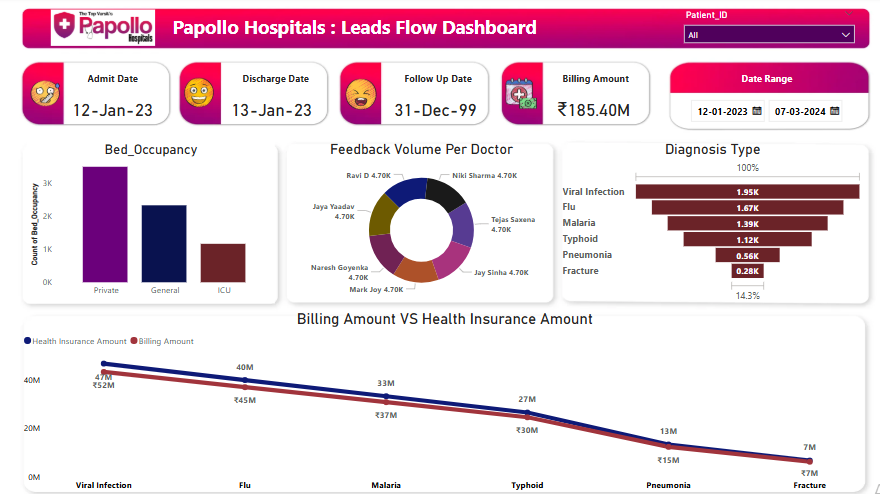

What the dashboard file says about the page in this screenshot:
{"tool":"powerbi","page":{"name":"Page 1","canvas":[1280,720],"ordinal":0},"visuals":[{"type":"image","box":[41.8,11.5,216,61.9],"z":0},{"type":"textbox","box":[244.8,17.3,557.3,51.8],"z":1000},{"type":"slicer","fields":{"Values":["Sheet1.Patient_ID"]},"box":[970.6,11.5,263.5,61.9],"z":3000},{"type":"card","fields":{"Values":["Sheet1.Admit_Date"]},"box":[83.5,133.9,161.3,50.4],"z":4000},{"type":"textbox","box":[122.4,100.8,122.4,44.6],"z":5000},{"type":"textbox","box":[344.2,100.8,122.4,44.6],"z":6000},{"type":"card","fields":{"Values":["Sheet1.Discharge_Date"]},"box":[313.9,133.9,152.6,50.4],"z":7000},{"type":"card","fields":{"Values":["Sheet1.Followup Date"]},"box":[548.6,133.9,152.6,50.4],"z":8000},{"type":"textbox","box":[576,100.8,125.3,44.6],"z":9000},{"type":"textbox","box":[802.1,100.8,125.3,44.6],"z":10000},{"type":"card","fields":{"Values":["Sheet1.Billing Amount"]},"box":[774.7,133.9,152.6,50.4],"z":11000},{"type":"slicer","fields":{"Values":["Sheet1.Admit_Date"]},"box":[977.8,135.4,249.1,49],"z":12000},{"type":"donutChart","title":"Feedback Volume Per Doctor","fields":{"Category":["Sheet1.Doctor"],"Y":["Sheet1.Feedback"]},"box":[436.3,204.5,338.4,231.8],"z":14000},{"type":"textbox","box":[1057,100.8,92.2,44.6],"z":15000},{"type":"funnel","title":"Diagnosis Type","fields":{"Category":["Sheet1.Diagnosis"],"Y":["Sheet1.Diagnosis"]},"box":[802.1,204.5,439.2,234.7],"z":16000},{"type":"lineChart","title":"Billing Amount VS Health Insurance Amount","fields":{"Y":["Sheet1.Health Insurance Amount"],"Y2":["Sheet1.Billing Amount"],"Category":["Sheet1.Diagnosis"]},"box":[31.7,446.4,1213.9,267.8],"z":17000},{"type":"image","box":[41.8,103.7,51.8,64.8],"z":18000},{"type":"image","box":[259.2,108,56.2,53.3],"z":19000},{"type":"image","box":[486.7,109.4,63.4,54.7],"z":20000},{"type":"image","box":[720,105.1,54.7,60.5],"z":21000},{"type":"columnChart","title":"Bed_Occupancy","fields":{"Category":["Sheet1.Bed_Occupancy"],"Y":["Sheet1.Bed_Occupancy"]},"box":[41.8,204.5,354.2,231.8],"z":21001}]}

Visuals, with their boxes in screenshot pixels (x1, y1, x2, y2), scaled from the page's 1280x720 canvas onto the 880x494 screenshot:
image: crop(29, 8, 177, 50)
textbox: crop(168, 12, 551, 47)
slicer - Sheet1.Patient_ID: crop(667, 8, 848, 50)
card - Sheet1.Admit_Date: crop(57, 92, 168, 126)
textbox: crop(84, 69, 168, 100)
textbox: crop(237, 69, 321, 100)
card - Sheet1.Discharge_Date: crop(216, 92, 321, 126)
card - Sheet1.Followup Date: crop(377, 92, 482, 126)
textbox: crop(396, 69, 482, 100)
textbox: crop(551, 69, 638, 100)
card - Sheet1.Billing Amount: crop(533, 92, 638, 126)
slicer - Sheet1.Admit_Date: crop(672, 93, 843, 127)
"Feedback Volume Per Doctor" donutChart: crop(300, 140, 533, 299)
textbox: crop(727, 69, 790, 100)
"Diagnosis Type" funnel: crop(551, 140, 853, 301)
"Billing Amount VS Health Insurance Amount" lineChart: crop(22, 306, 856, 490)
image: crop(29, 71, 64, 116)
image: crop(178, 74, 217, 111)
image: crop(335, 75, 378, 113)
image: crop(495, 72, 533, 114)
"Bed_Occupancy" columnChart: crop(29, 140, 272, 299)
